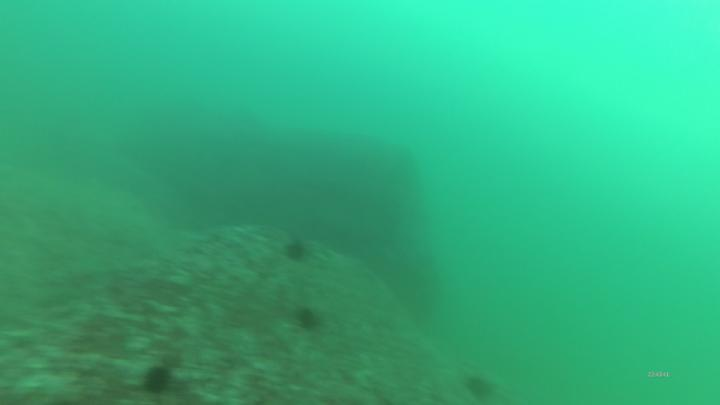echinus: (463, 371, 497, 405), (140, 364, 174, 396), (294, 304, 324, 336), (284, 238, 309, 264)
